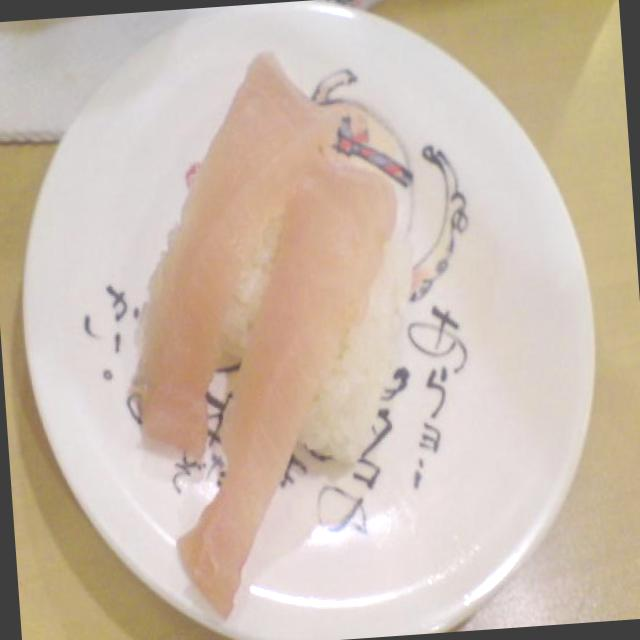Sushi: (120, 107, 406, 537)
